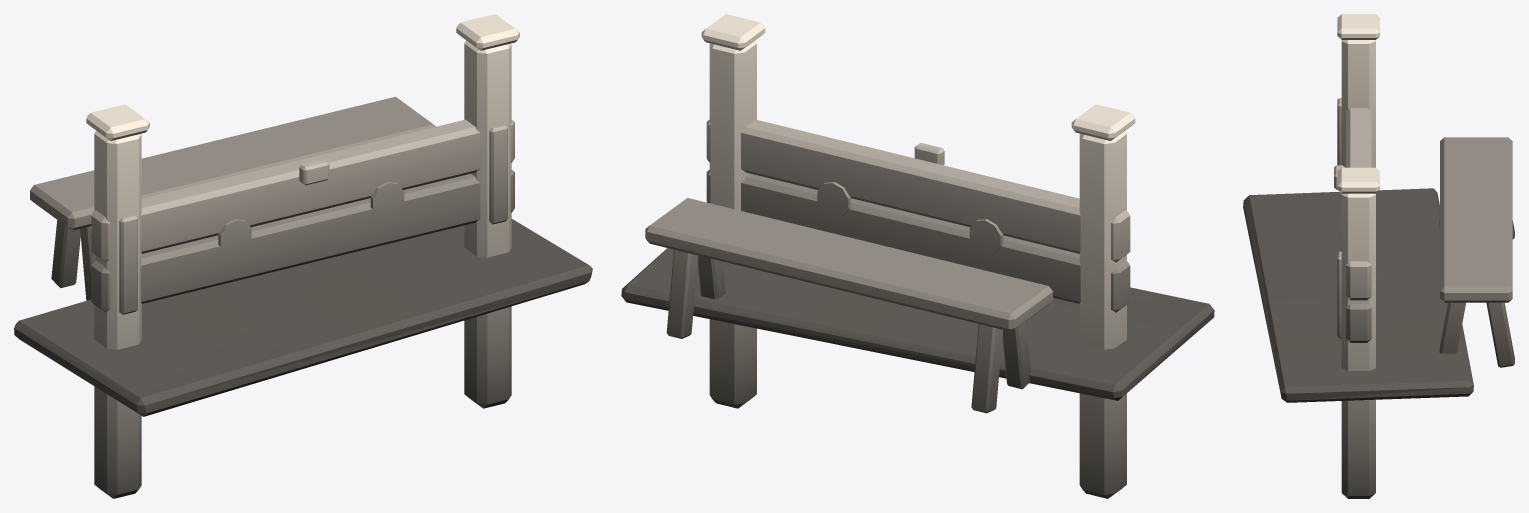
The model's file is SM_VK_Prop_Stocks.fbx.
3 views of the same model, side by side, from view 1: azimuth 30°, elevation 25°; view 2: azimuth 150°, elevation 25°; view 3: azimuth 270°, elevation 25° (orthographic). The views are drawn at different scales.
Visible parts, largest first — view 1: SM_VK_Prop_Stocks.001; view 2: SM_VK_Prop_Stocks.001; view 3: SM_VK_Prop_Stocks.001.
Part boxes in pixels (<box>): SM_VK_Prop_Stocks.001: <box>14,14,592,498</box>; SM_VK_Prop_Stocks.001: <box>621,14,1214,498</box>; SM_VK_Prop_Stocks.001: <box>1243,14,1514,498</box>.
Size of the model in its own units: 2.27 by 1.65 by 1.27.
